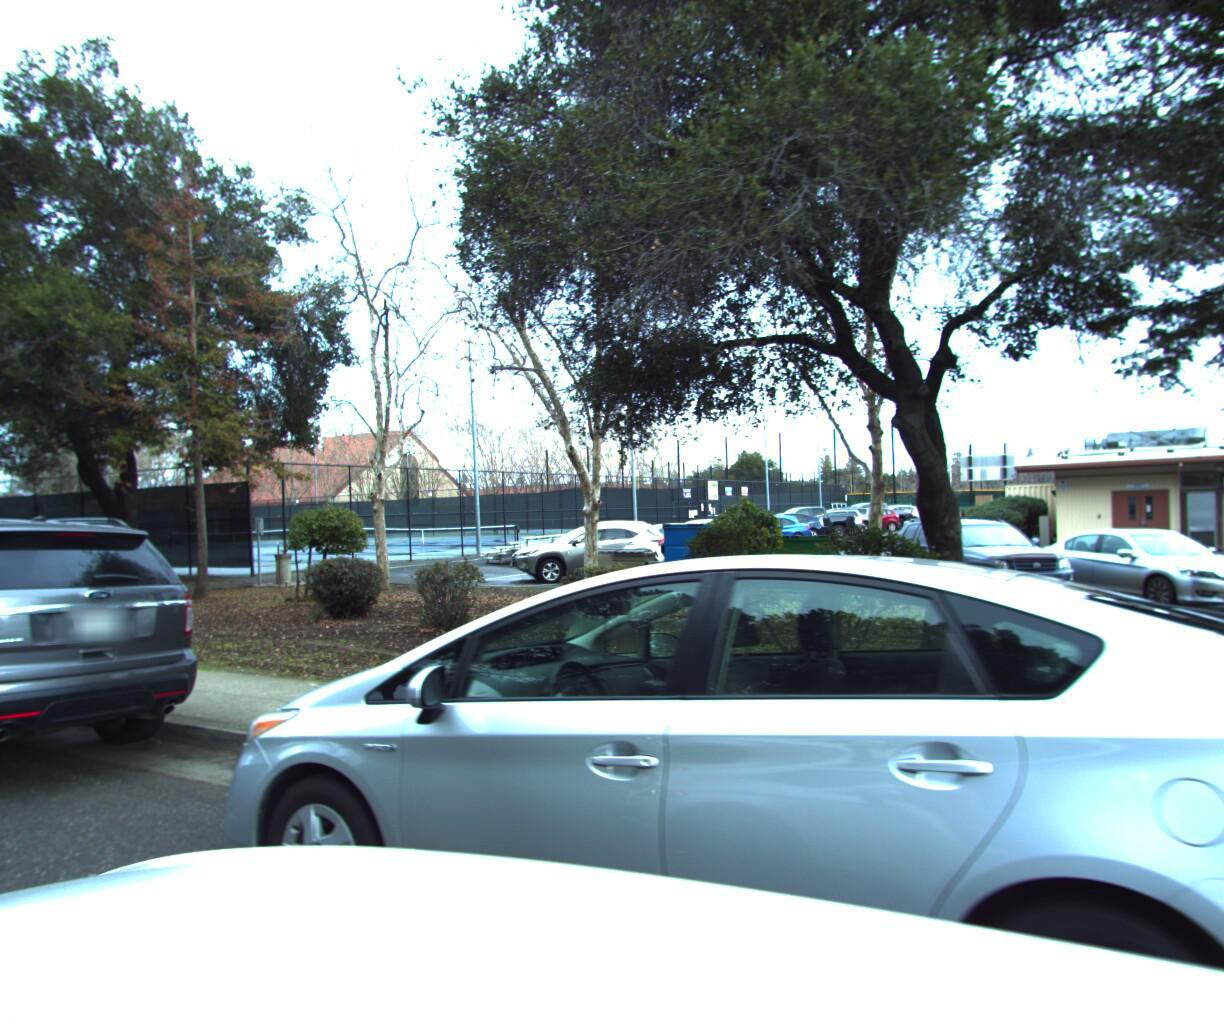car: (138, 532, 1224, 1024), (0, 498, 237, 850)
